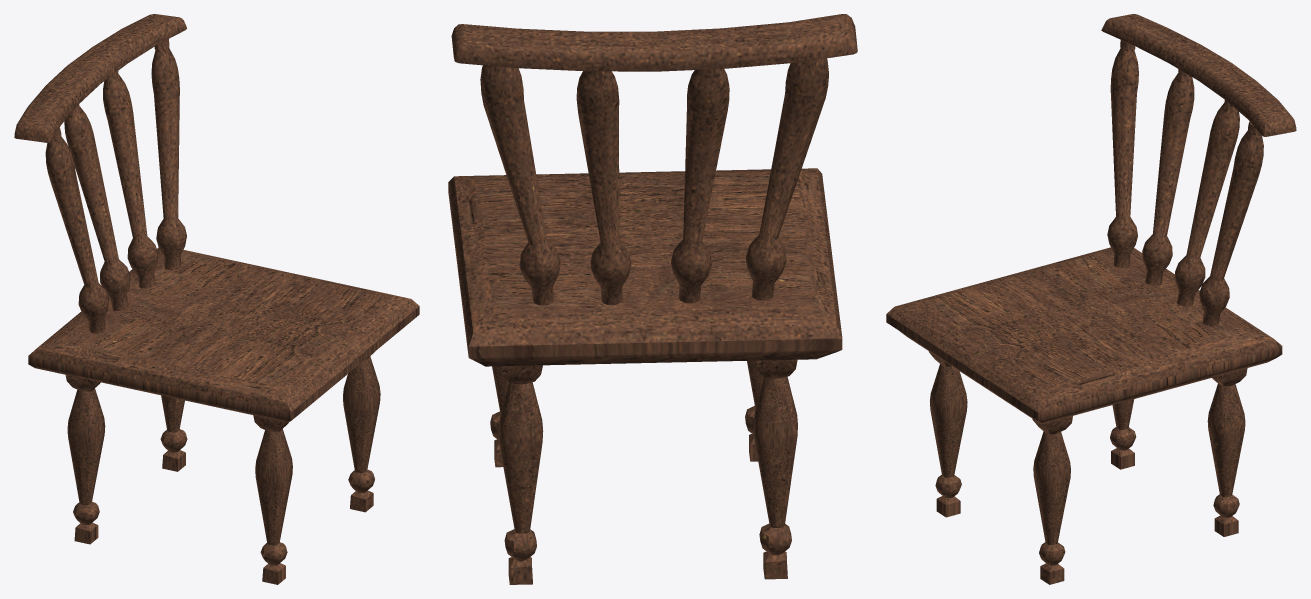
Rendered from chair-update.fbx.
The picture shows the model from 3 angles, left to right: view 1: azimuth 30°, elevation 25°; view 2: azimuth 150°, elevation 25°; view 3: azimuth 270°, elevation 25°; orthographic projection. The views are drawn at different scales.
Parts seen in each view (by area): view 1: Chair_2_1; view 2: Chair_2_1; view 3: Chair_2_1.
Part boxes in pixels (box(x1,y1,x2,y2)): Chair_2_1: box(14, 14, 419, 584); Chair_2_1: box(448, 14, 857, 584); Chair_2_1: box(886, 14, 1296, 584).
Bounding box in the file's own units: 9.53 × 10.97 × 9.61.
1 material, 1 textured.
